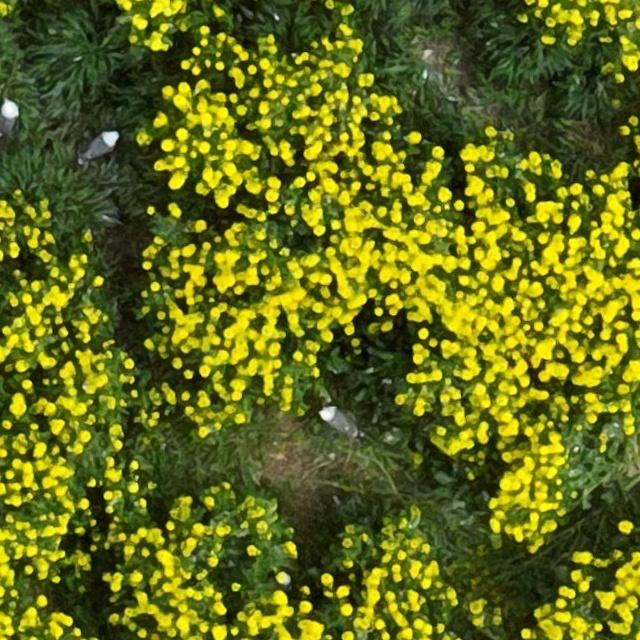umineko: (82, 129, 118, 157), (321, 408, 357, 436), (1, 101, 19, 135)
